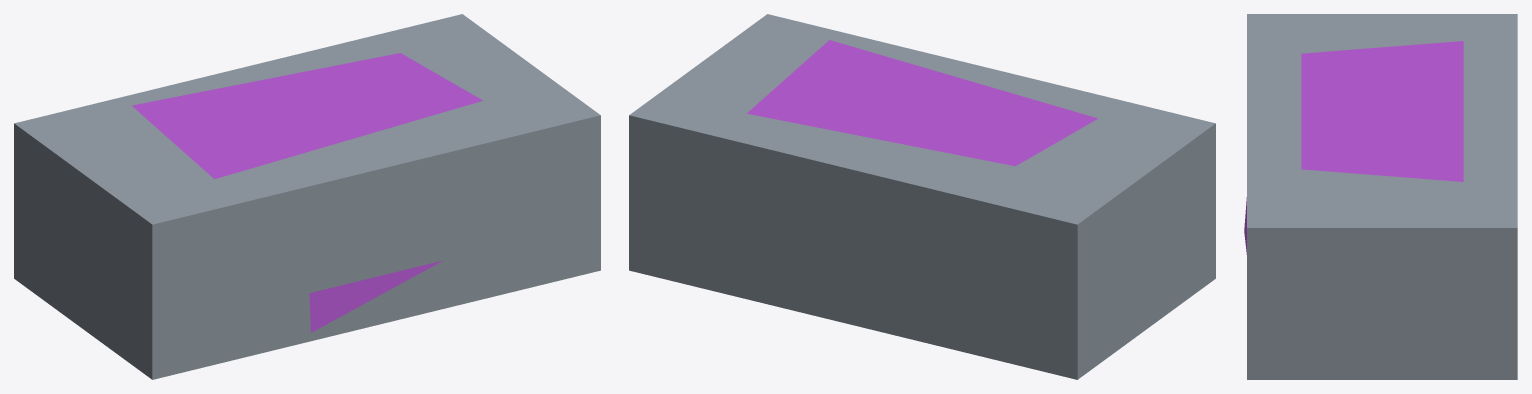
The model's file is CH_DeltaDelayArtillery_LOD1.glb.
3 views of the same model, side by side, from view 1: azimuth 30°, elevation 25°; view 2: azimuth 150°, elevation 25°; view 3: azimuth 270°, elevation 25° (orthographic). The views are drawn at different scales.
Visible parts, largest first — view 1: EntranceGate; view 2: EntranceGate; view 3: EntranceGate.
Boxes of the visible parts, x1,y1,x2,y2 form: EntranceGate: (14, 14, 600, 379); EntranceGate: (629, 14, 1215, 379); EntranceGate: (1244, 14, 1517, 379).
Size of the model in its own units: 580 by 212 by 313.
